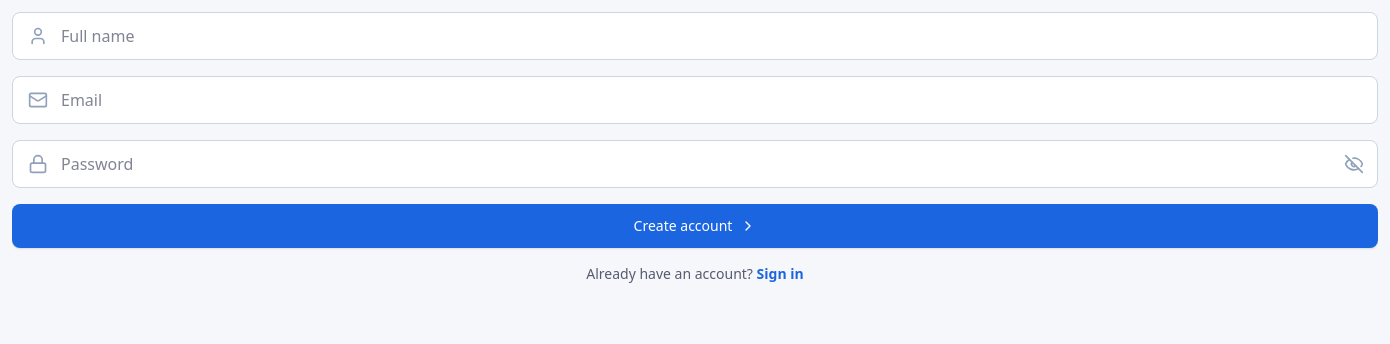
Test: signing up with an email that already has an account › says so instead of promising a confirmation email that is never sent
Step 1. Type "Pat Lee" into the field with placeholder "Full name" → coordinates (695, 36), box [12, 12, 1378, 60]
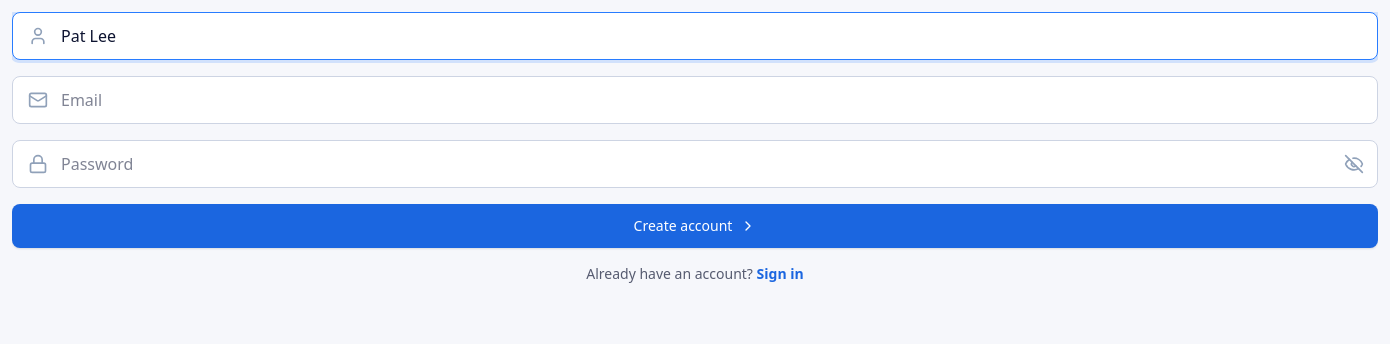
Step 2. Type "pat@pizza.test" into the field with placeholder "Email" → coordinates (695, 100), box [12, 76, 1378, 124]
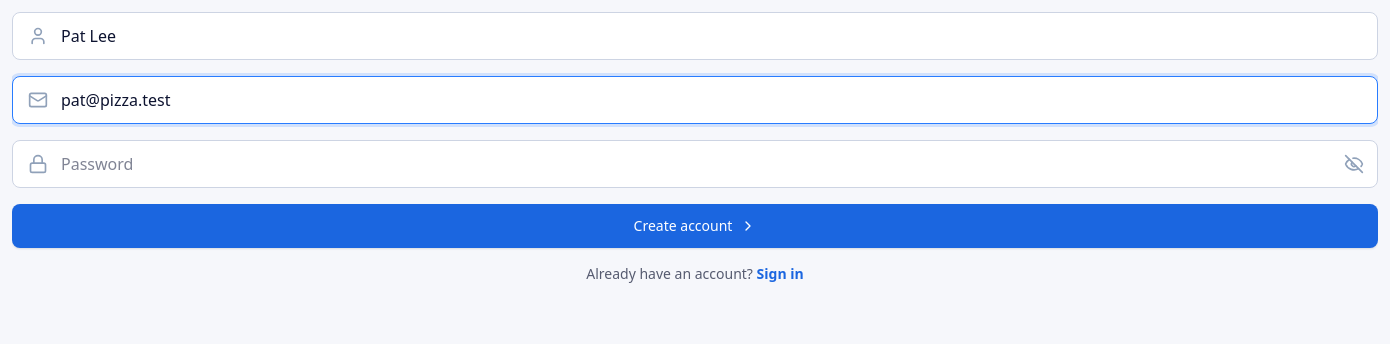
Step 3. Type "correct-horse-battery" into the password field with placeholder "Password" → coordinates (695, 164), box [12, 140, 1378, 188]
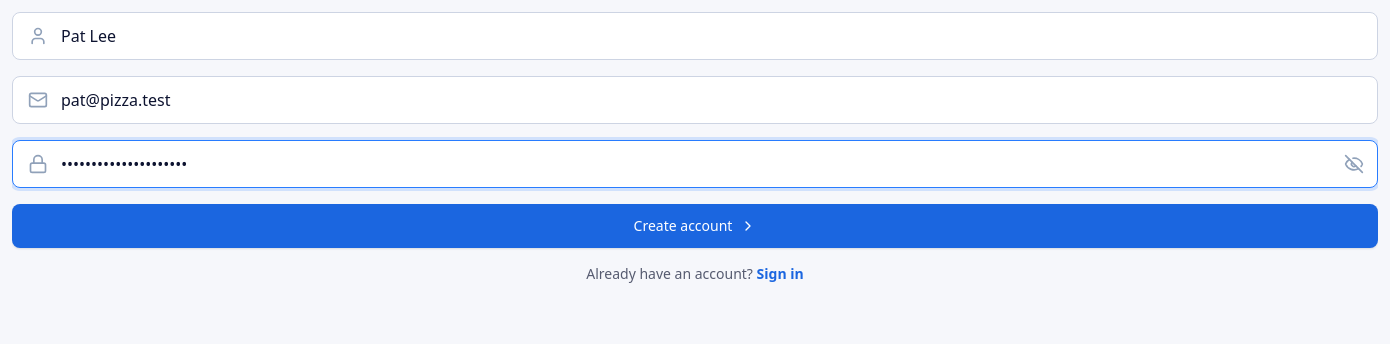
Step 4. Click the button "Create account" → coordinates (695, 226), box [12, 204, 1378, 248]
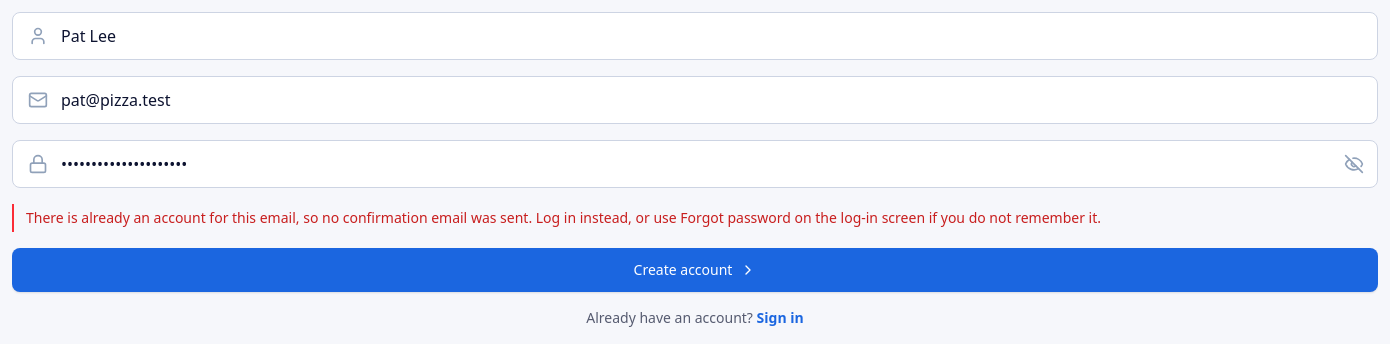
Now the text "already an account for this email" is shown, box [26, 208, 1101, 227]
